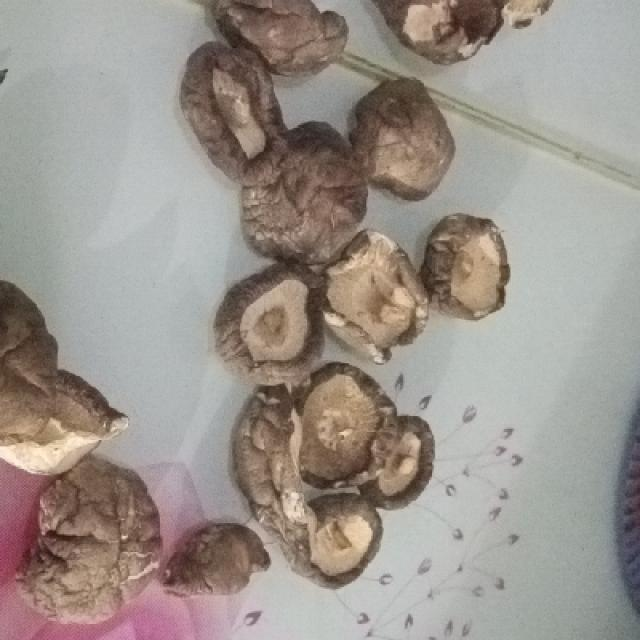Lentinus edodes: (11, 460, 162, 623), (236, 118, 365, 264), (323, 227, 430, 367), (184, 41, 288, 182), (347, 76, 456, 200), (217, 255, 323, 376), (299, 361, 397, 490), (236, 379, 307, 548), (200, 0, 348, 76), (424, 210, 513, 320), (287, 494, 387, 583), (159, 522, 277, 591)
